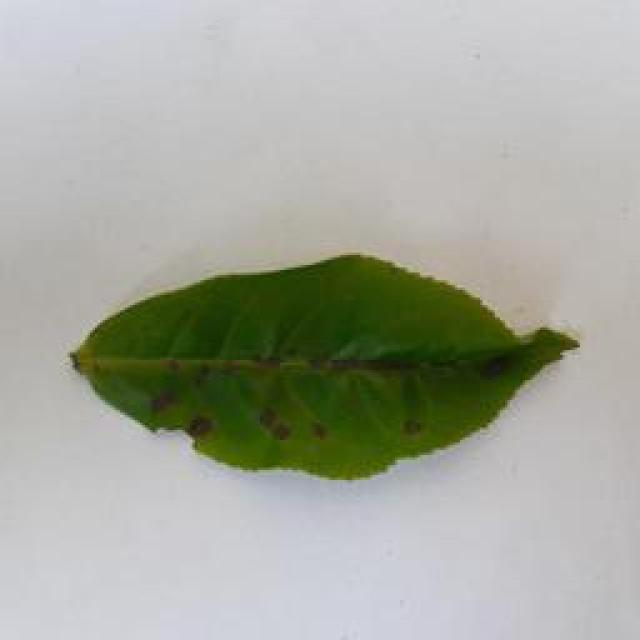Helopeltis: (55, 239, 572, 490)
